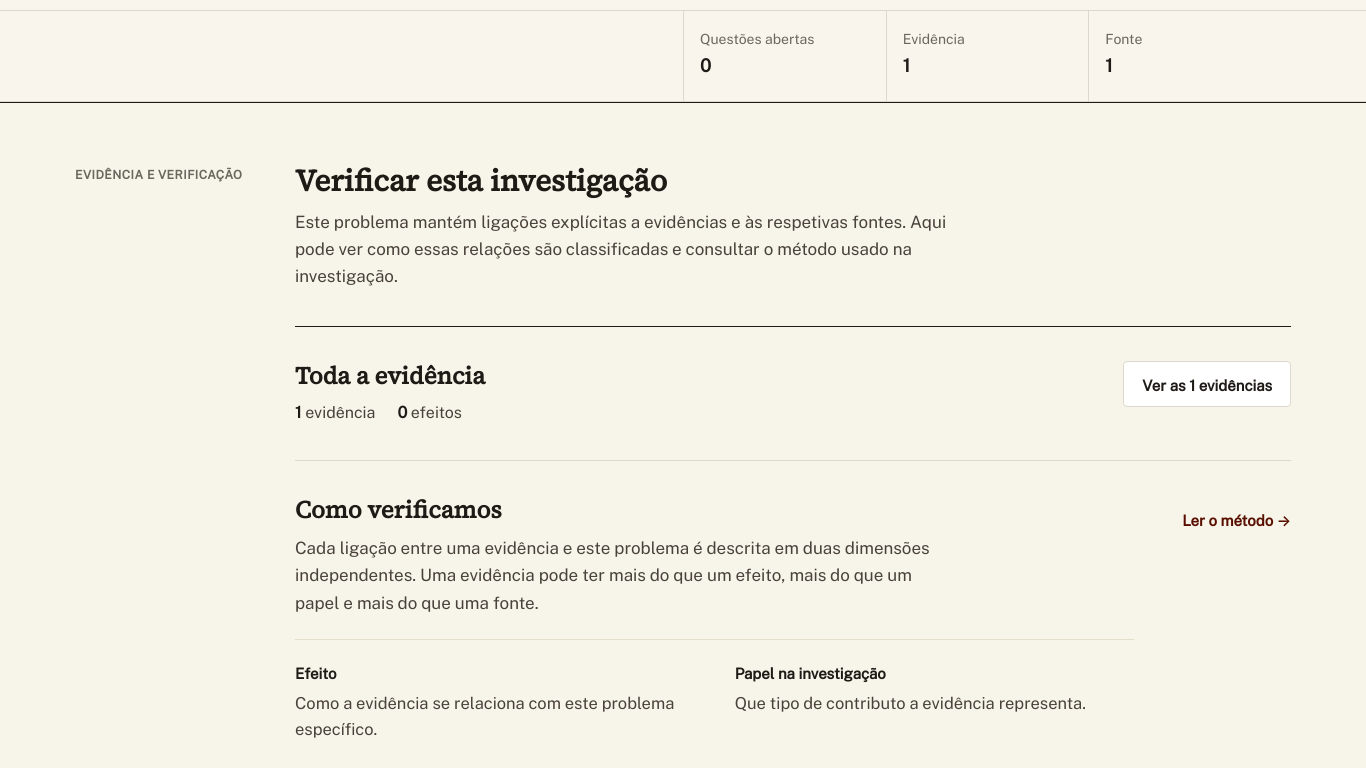
Test case: PrbDetailsPresentation — audit evidence drawer › labels point-in-time recommendations as temporal references
This screenshot has width=1366, height=768.
(page scrolled)
Click the button "Ver as 1 evidências".
click(1207, 384)  # box 1123,362 -> 1291,408
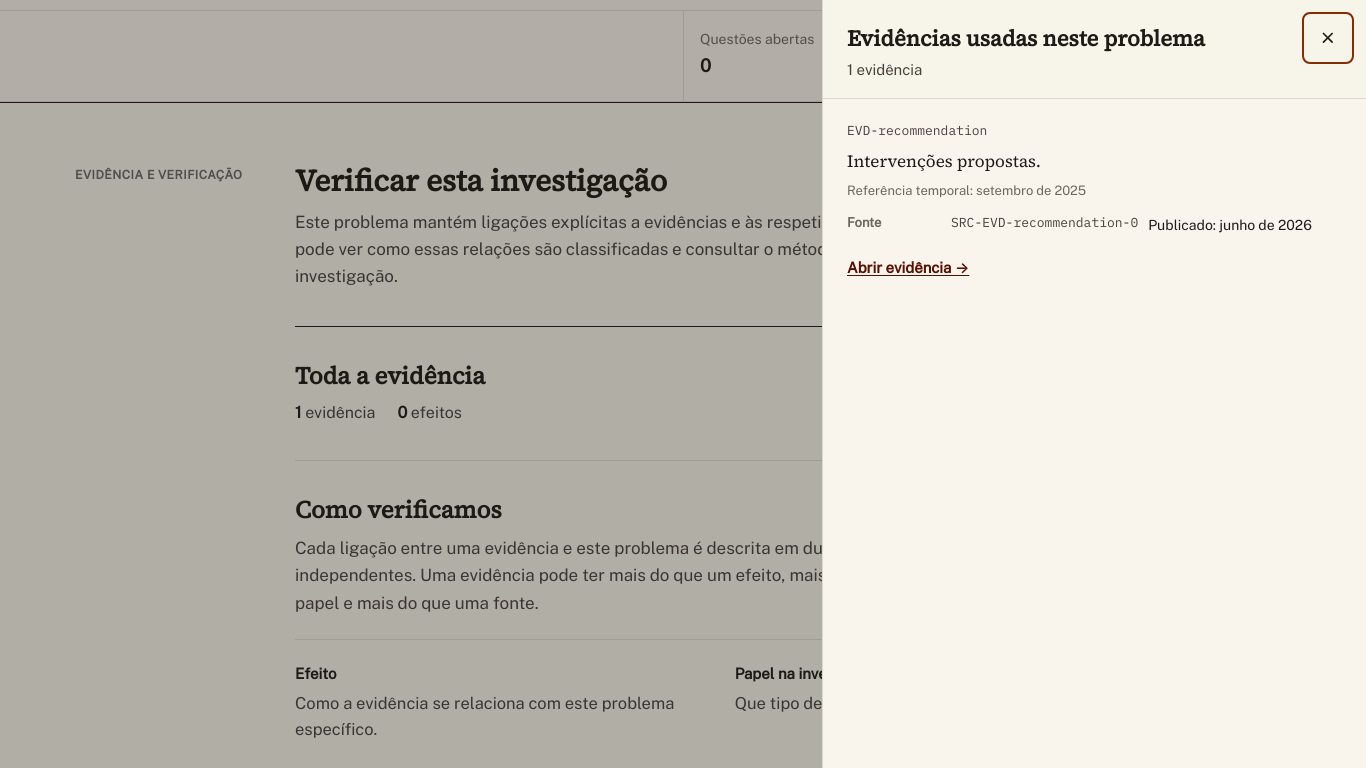
Result: the text "Referência temporal: setembro de 2025" is shown at 847,183 -> 1086,198
Result: the text "Publicado: junho de 2026" is shown at 1148,215 -> 1312,235
